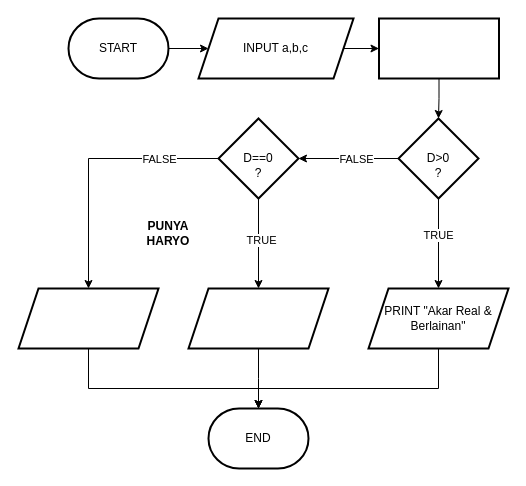
Some shapes in this 526 by 486 pixel diagram are drawn without their labels. Each missing label, with the box of its shape:
PRINT "Akar Imajiner/Tidak Real/Khayal.": (17, 287, 159, 349)
PRINT "Akar Real & Kembar": (187, 287, 329, 349)
SET D = (b*b)-(4*a*c): (378, 17, 500, 79)
